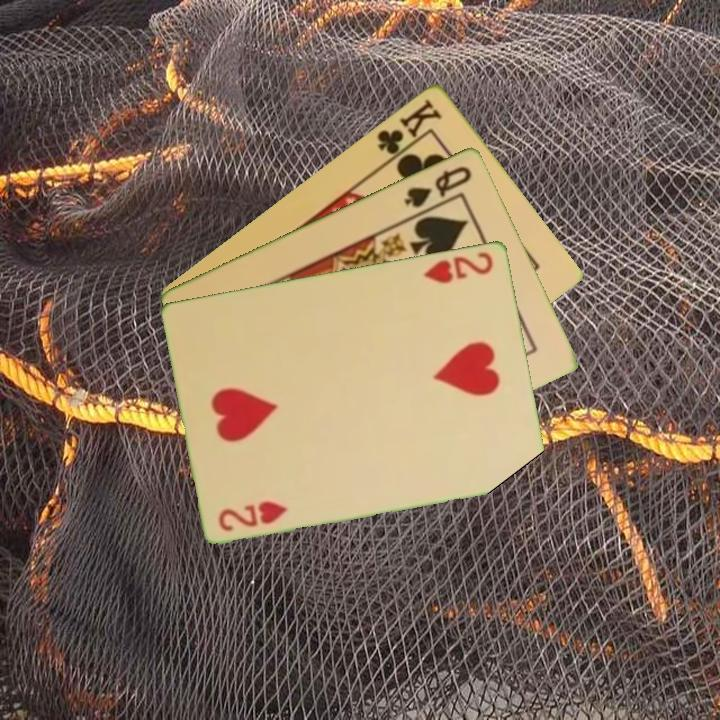2h: (420, 248, 496, 286), (215, 497, 291, 534)
Kc: (373, 94, 445, 165)
Qs: (400, 162, 475, 210)
